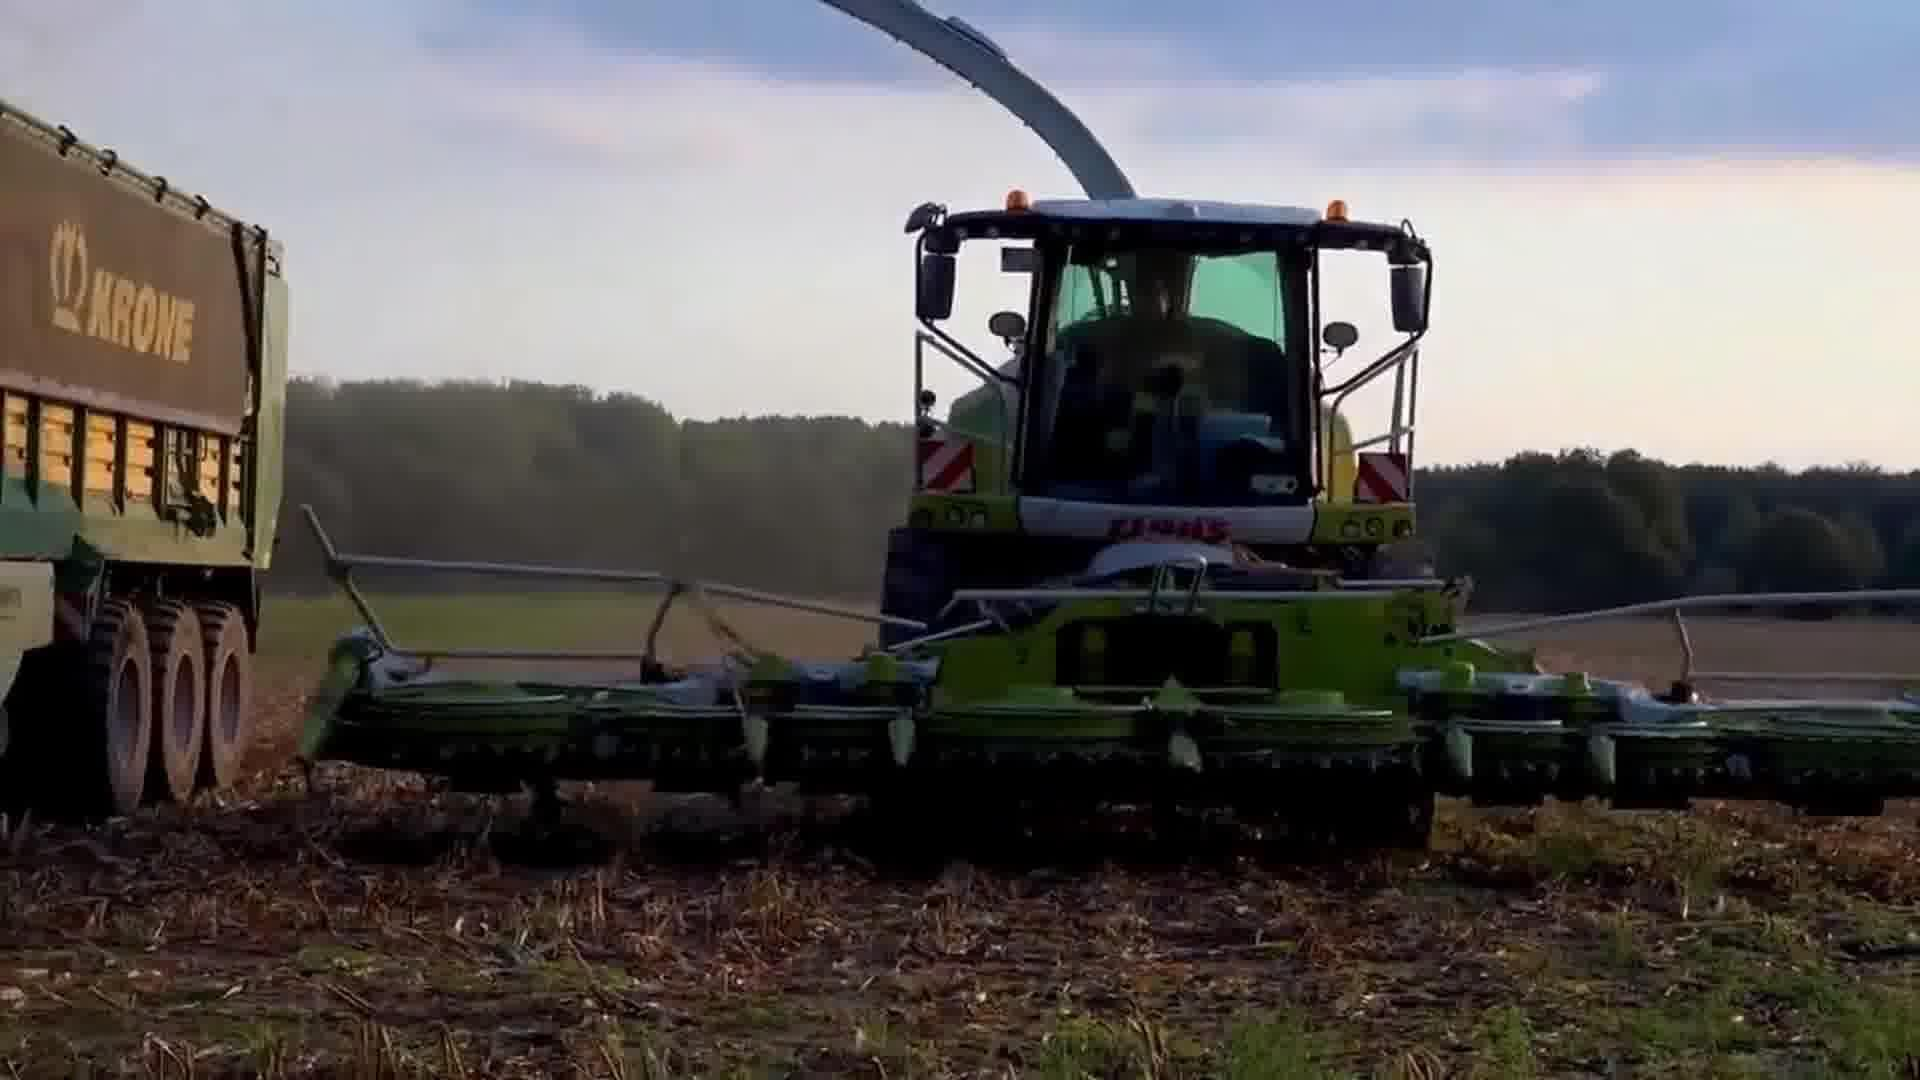combine harvester: (273, 0, 1920, 873)
trailer: (0, 93, 299, 839)
